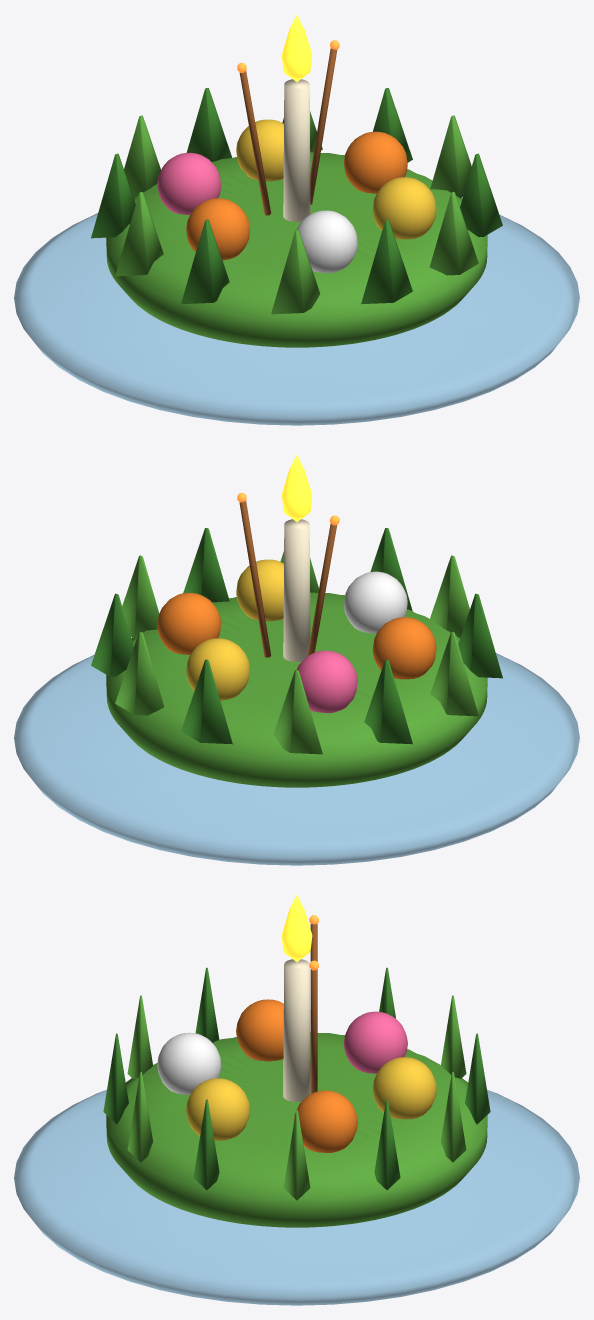
Rendered from d-krathong.glb.
3 views of the same model, one above another, from view 1: azimuth 30°, elevation 25°; view 2: azimuth 150°, elevation 25°; view 3: azimuth 270°, elevation 25° (orthographic).
Visible parts, largest first — view 1: d-krathong; view 2: d-krathong; view 3: d-krathong.
Boxes of the visible parts, x1=… form: d-krathong: x1=14, y1=15, x2=579, y2=425; d-krathong: x1=14, y1=455, x2=579, y2=865; d-krathong: x1=14, y1=895, x2=579, y2=1305.
Bounding box in the file's own units: 0.2084 × 0.12 × 0.2084.
